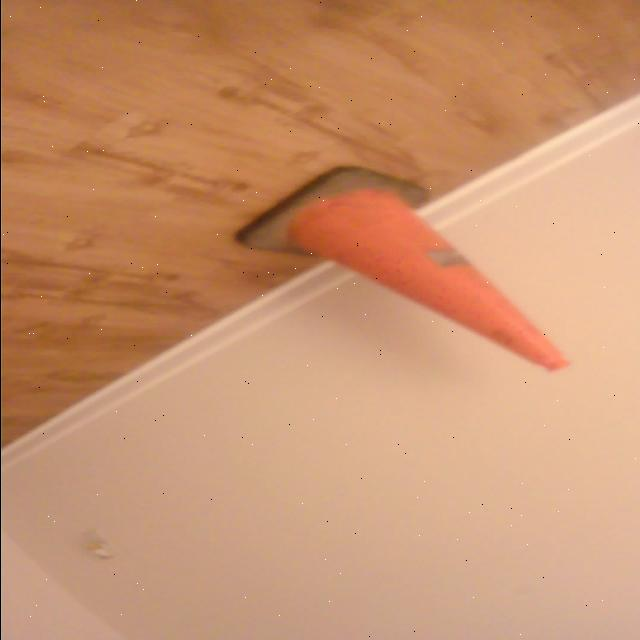traffic cone: (228, 163, 574, 380)
